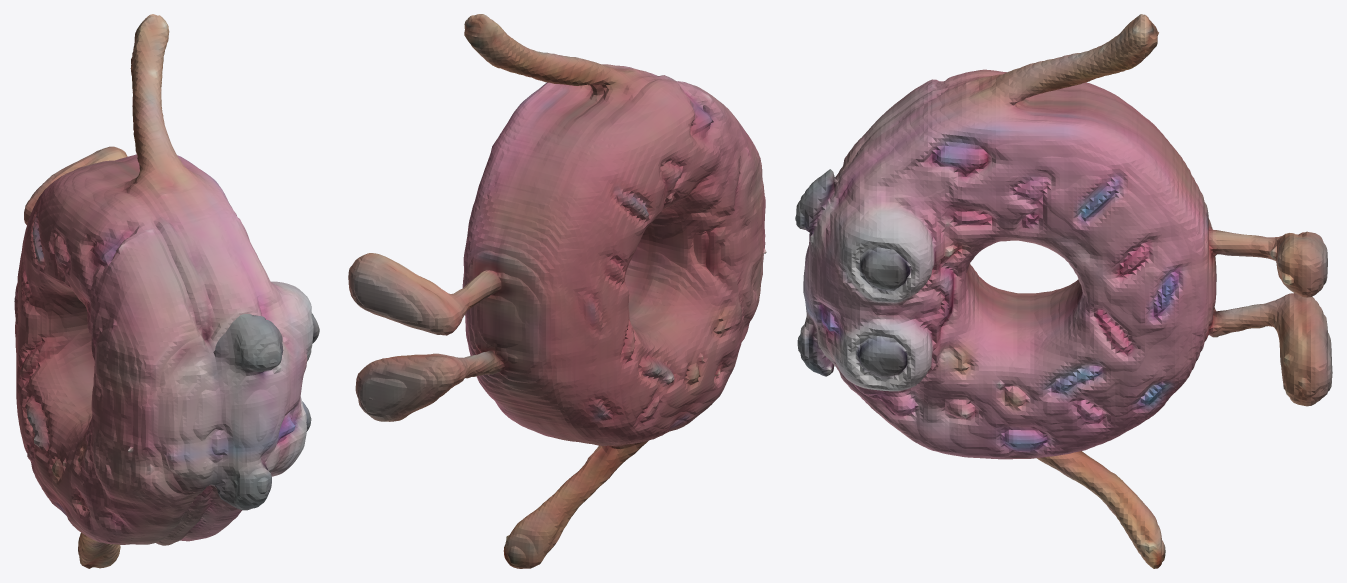
3 renders of one model, left to right at view 1: azimuth 30°, elevation 25°; view 2: azimuth 150°, elevation 25°; view 3: azimuth 270°, elevation 25°, orthographic. The views are drawn at different scales.
Parts seen in each view (by area): view 1: geometry_0; view 2: geometry_0; view 3: geometry_0.
Boxes of the visible parts, x1,y1,x2,y2 form: geometry_0: [14, 14, 319, 568]; geometry_0: [348, 14, 766, 568]; geometry_0: [795, 14, 1332, 568].
Size of the model in its own units: 0.427 by 1.01 by 0.8617.
